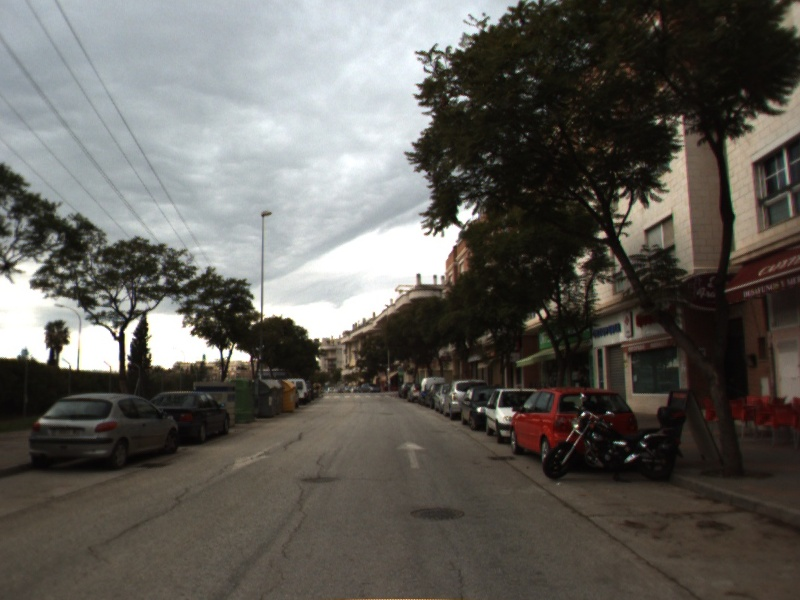STRAIGHT: (393, 438, 429, 470)
